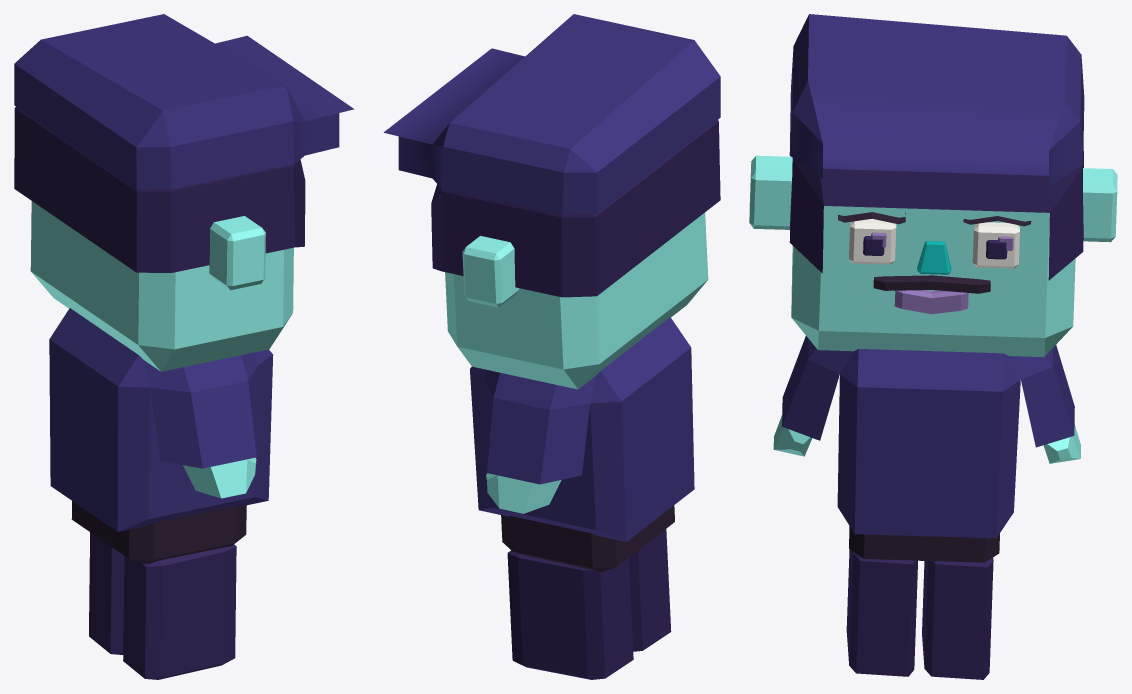
File: policemancolored.fbx
3 renders of one model, left to right at view 1: azimuth 30°, elevation 25°; view 2: azimuth 150°, elevation 25°; view 3: azimuth 270°, elevation 25°, orthographic. The views are drawn at different scales.
Parts seen in each view (by area): view 1: pCube349.006; view 2: pCube349.006; view 3: pCube349.006.
Part boxes in pixels (bbox=[...]): pCube349.006: bbox=[14, 14, 354, 679]; pCube349.006: bbox=[383, 14, 720, 679]; pCube349.006: bbox=[749, 14, 1117, 679].
Size of the model in its own units: 264 by 663 by 358.
